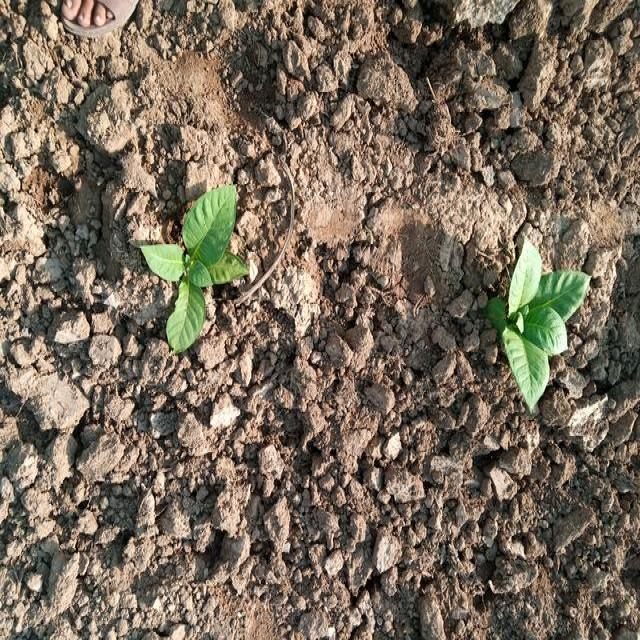crop: (138, 175, 248, 352), (499, 235, 598, 407)
